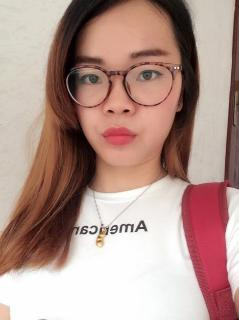short sleeve top: (0, 173, 239, 319)
